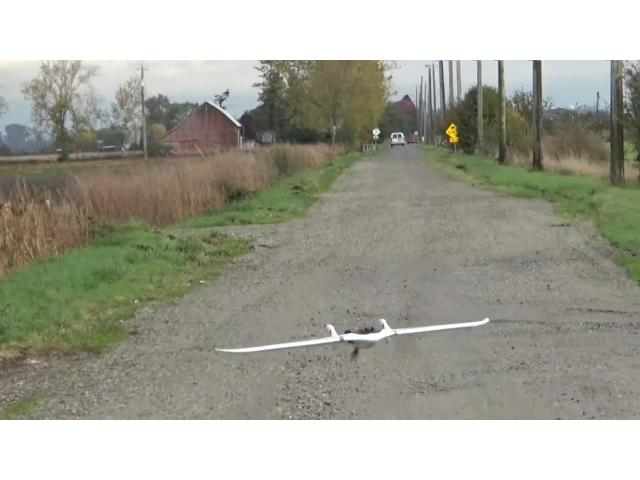Anti-Drone: (214, 317, 492, 355)
